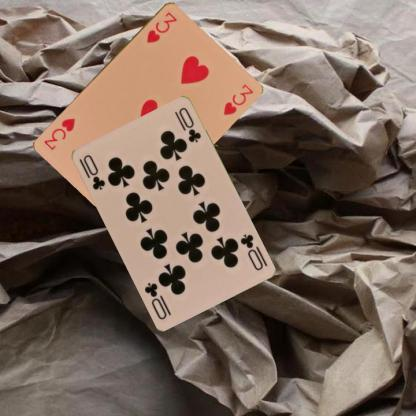10c: (237, 231, 269, 272), (80, 152, 107, 191)
3h: (144, 9, 178, 44)
